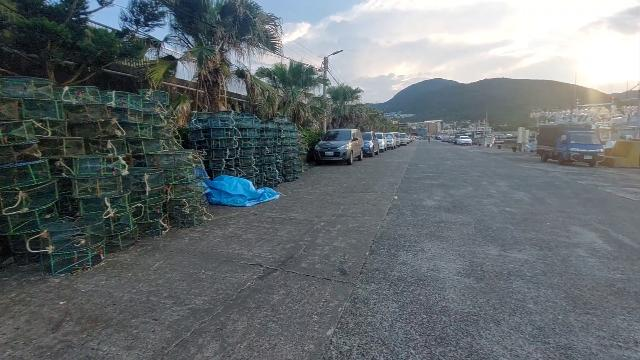pollute: (194, 166, 280, 208)
